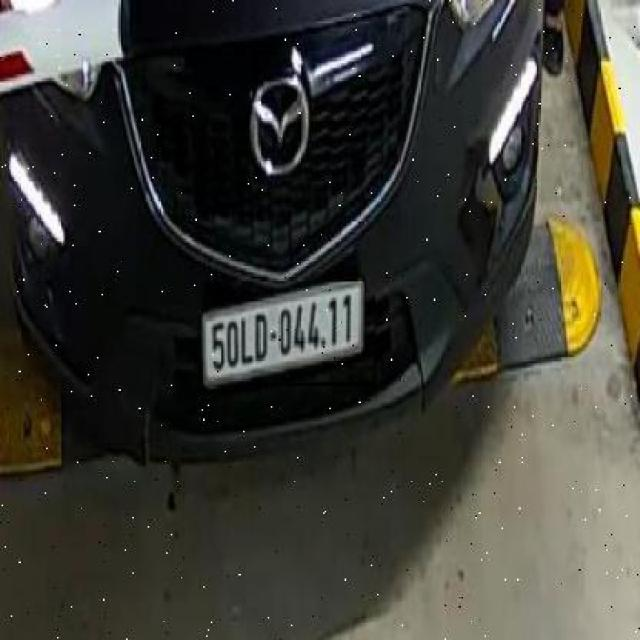number_plate: (200, 282, 375, 386)
